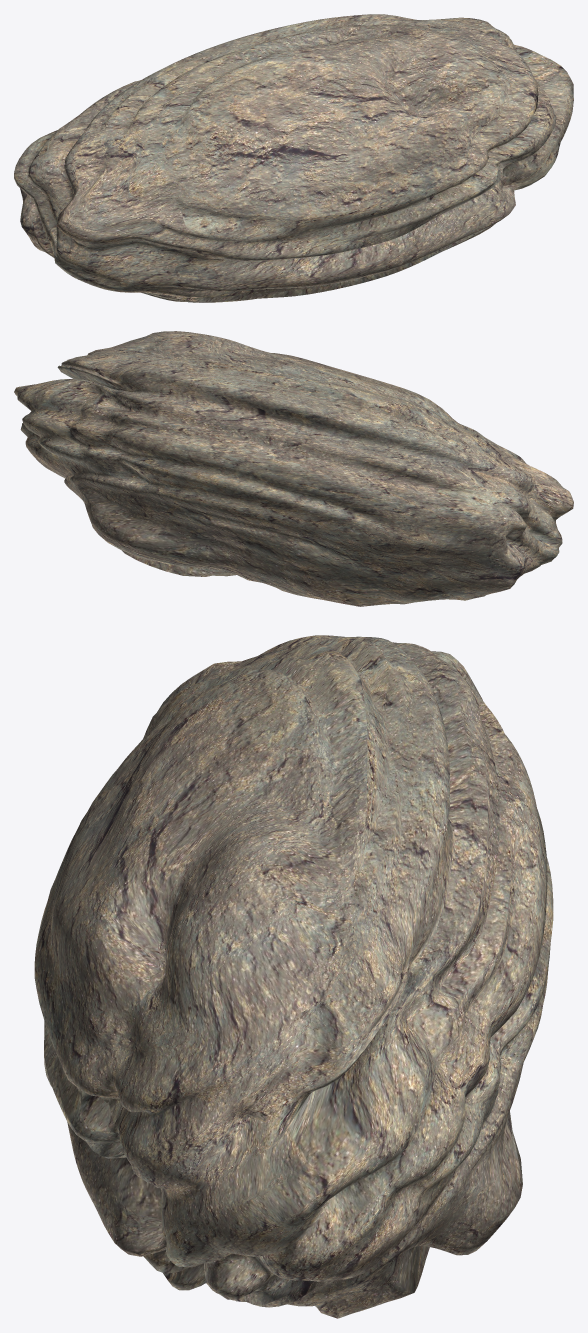
The model's file is boulder2.gltf.
The picture shows the model from 3 angles, top to bottom: view 1: azimuth 30°, elevation 25°; view 2: azimuth 150°, elevation 25°; view 3: azimuth 270°, elevation 25°; orthographic projection. The views are drawn at different scales.
Parts seen in each view (by area): view 1: Cube; view 2: Cube; view 3: Cube.
Part boxes in pixels (x1,y1,x2,y2): Cube: [14, 14, 573, 302]; Cube: [14, 331, 573, 606]; Cube: [34, 635, 553, 1318].
Bounding box in the file's own units: 7.82 × 3.15 × 3.3.
Materials: 1 (1 with a texture image).
